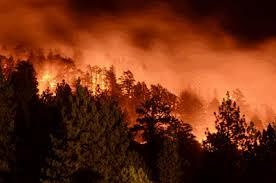fire: (34, 68, 59, 97)
